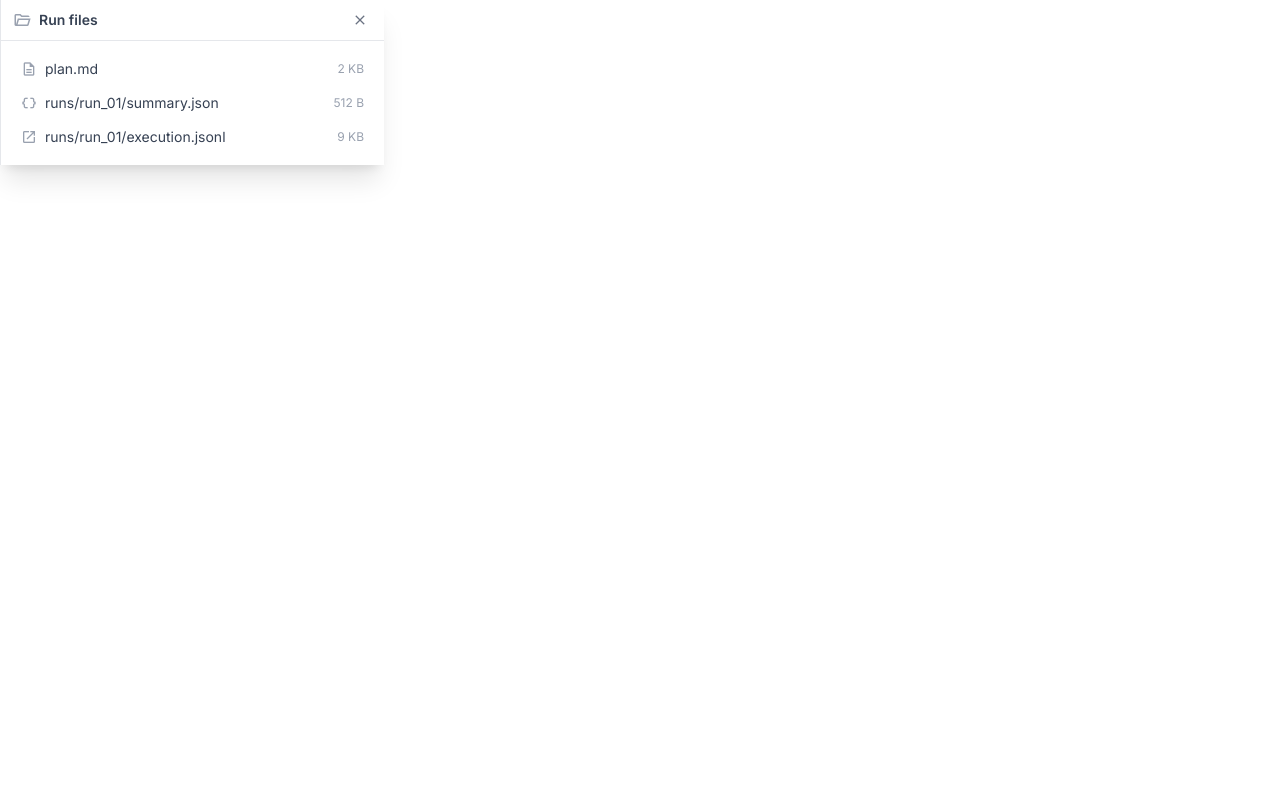
Test: CompanionDrawer › pretty-prints json companions
Click the text "runs/run_01/summary.json" at (132, 103), box [45,93,219,113]
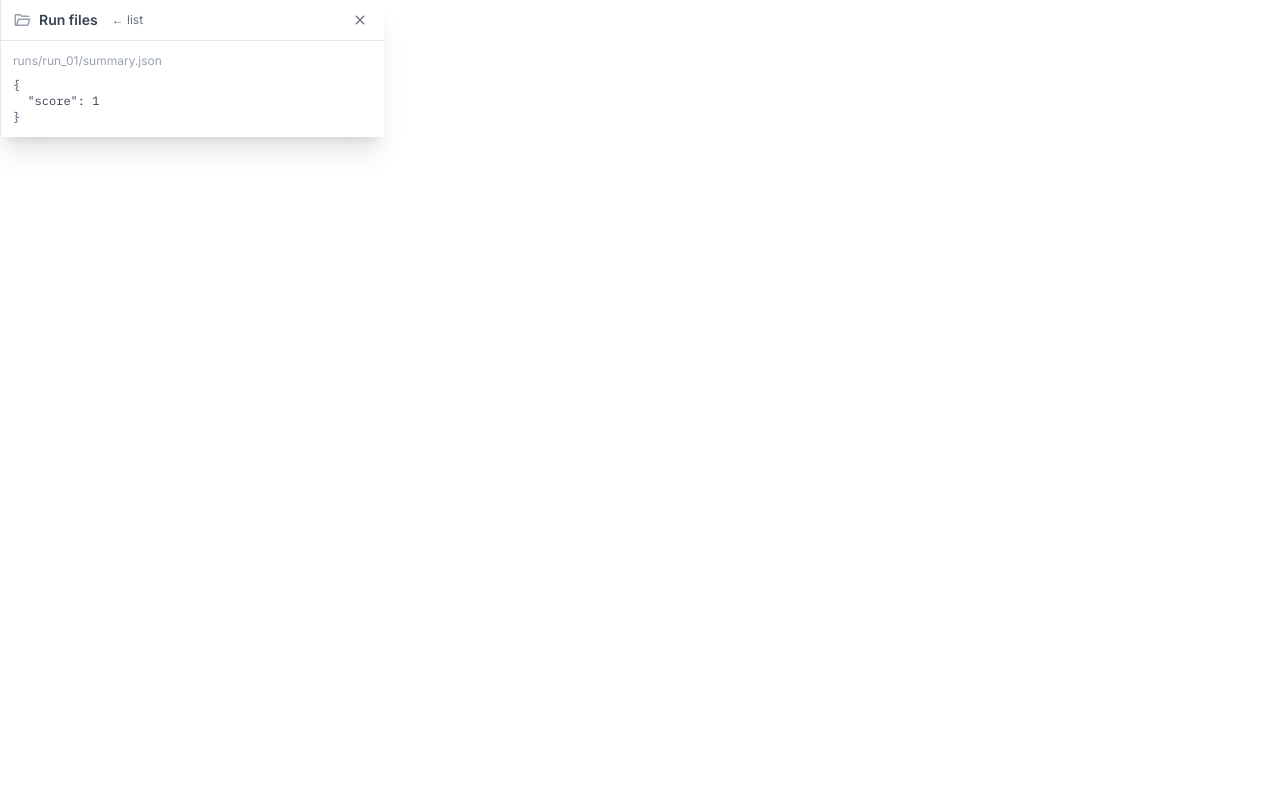
Result: the text "{ \"score\": 1 }" is shown at [13,77,99,124]
